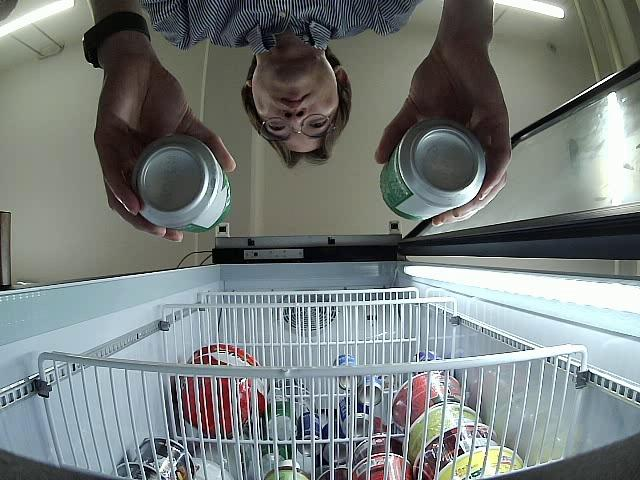00_hand: (92, 62, 240, 242), (373, 50, 512, 228)
12_chilsungCider: (382, 118, 486, 221), (131, 136, 234, 233)
